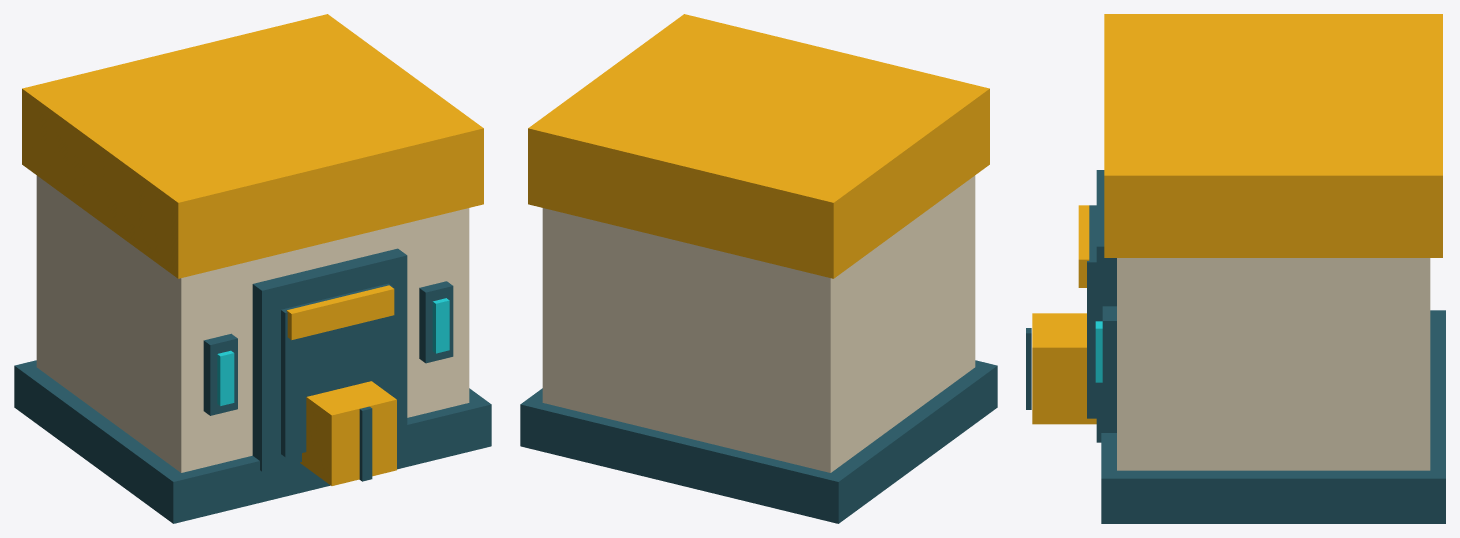
Rendered from storage.glb.
3 views of the same model, side by side, from view 1: azimuth 30°, elevation 25°; view 2: azimuth 150°, elevation 25°; view 3: azimuth 270°, elevation 25° (orthographic). The views are drawn at different scales.
Visible parts, largest first — view 1: Golden roof, Storage building, Storage foundation, Door frame, Door opening, Cargo, Door top shutter, Storage indicator bezel, Storage indicator bezel.001, Cargo strap, Storage indicator.001, Storage indicator; view 2: Storage building, Golden roof, Storage foundation; view 3: Golden roof, Storage building, Storage foundation, Cargo, Door frame, Door opening, Storage indicator bezel.001, Door top shutter, Storage indicator.001, Cargo strap.
Boxes of the visible parts, x1,y1,x2,y2 form: Golden roof: [22, 14, 483, 278]; Storage building: [36, 175, 469, 472]; Storage foundation: [14, 360, 491, 523]; Door frame: [252, 248, 407, 471]; Door opening: [281, 283, 392, 456]; Cargo: [300, 381, 396, 485]; Door top shutter: [286, 285, 394, 339]; Storage indicator bezel: [203, 333, 237, 415]; Storage indicator bezel.001: [419, 281, 453, 363]; Cargo strap: [359, 406, 372, 481]; Storage indicator.001: [432, 298, 449, 353]; Storage indicator: [217, 350, 234, 405]; Storage building: [542, 175, 975, 472]; Golden roof: [528, 14, 989, 278]; Storage foundation: [520, 360, 997, 523]; Golden roof: [1104, 14, 1442, 257]; Storage building: [1117, 258, 1430, 470]; Storage foundation: [1101, 310, 1445, 523]; Cargo: [1032, 313, 1096, 424]; Door frame: [1096, 170, 1116, 442]; Door opening: [1087, 205, 1096, 418]; Storage indicator bezel.001: [1102, 306, 1116, 397]; Door top shutter: [1078, 205, 1089, 287]; Storage indicator.001: [1095, 321, 1102, 382]; Cargo strap: [1026, 328, 1031, 409].
Size of the model in its own units: 1.27 by 1.22 by 1.34.
